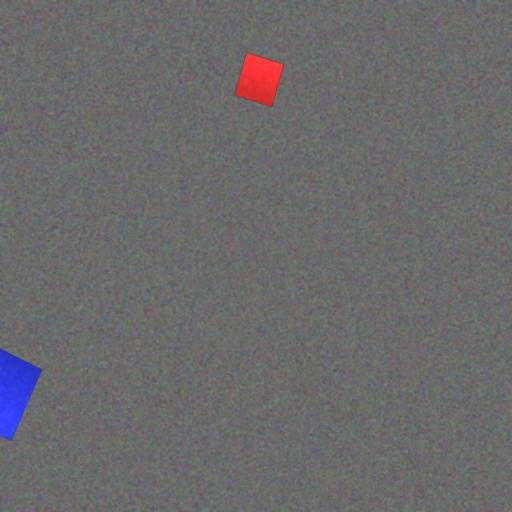BLUE_SQUARE: (0, 331, 42, 441)
RED_SQUARE: (234, 51, 284, 107)
